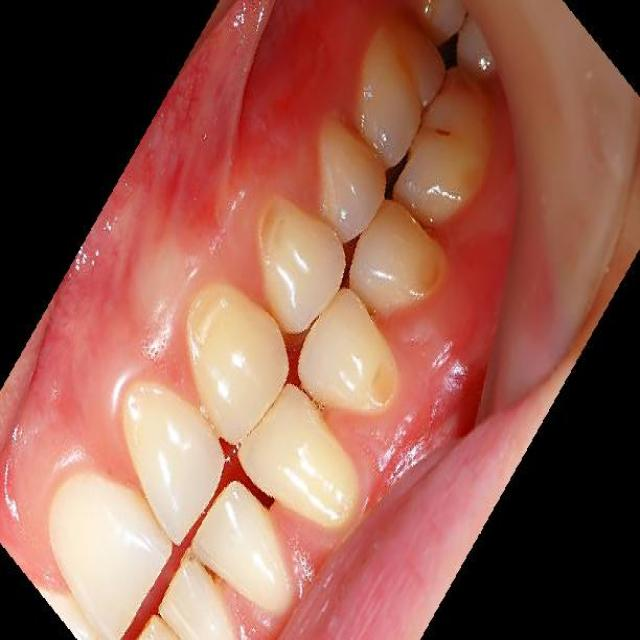caries: (182, 275, 230, 351), (249, 193, 294, 269), (354, 344, 395, 414), (407, 245, 447, 304)
